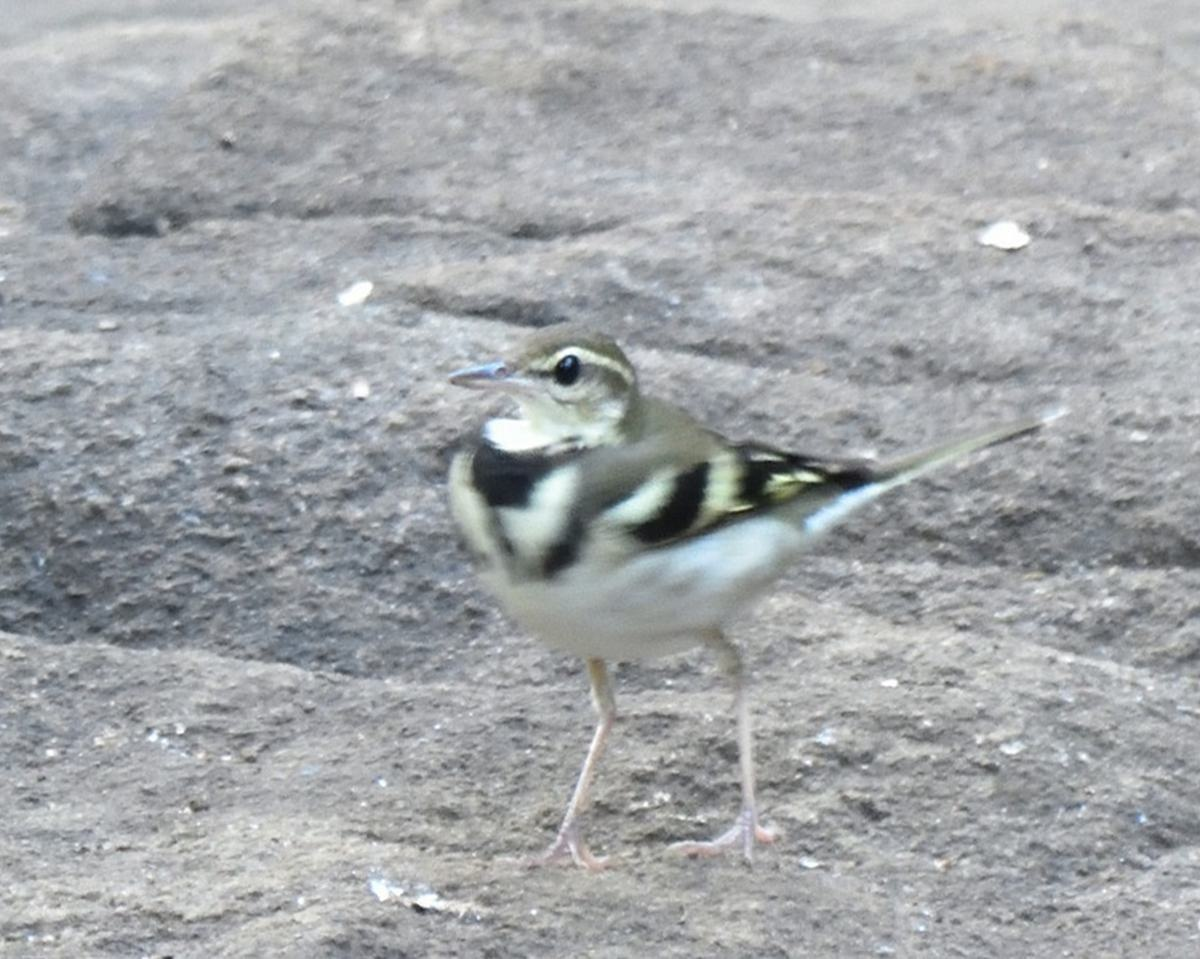wagtail: (423, 325, 997, 738)
